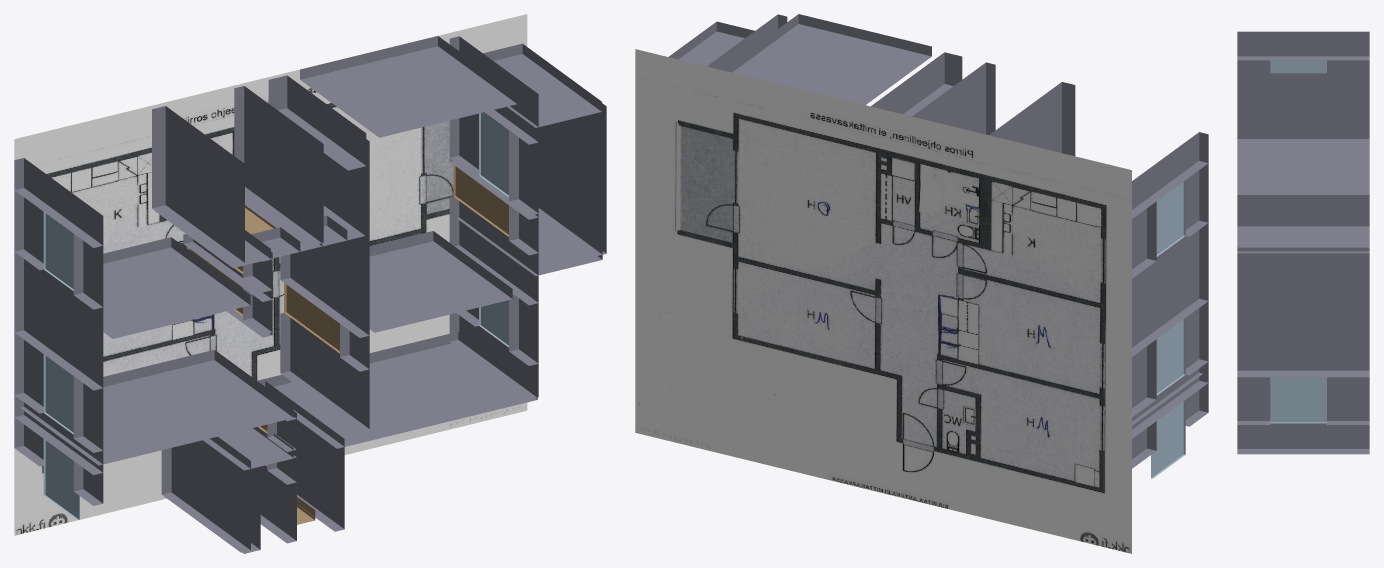
3 renders of one model, left to right at view 1: azimuth 30°, elevation 25°; view 2: azimuth 150°, elevation 25°; view 3: azimuth 270°, elevation 25°, orthographic. The views are drawn at different scales.
Parts seen in each view (by area): view 1: 3, InteriorFloor; view 2: InteriorFloor, 3; view 3: 3.
Boxes of the visible parts, x1=… form: 3: x1=14, y1=36, x2=606, y2=553; InteriorFloor: x1=14, y1=14, x2=527, y2=535; InteriorFloor: x1=635, y1=49, x2=1131, y2=553; 3: x1=669, y1=14, x2=1208, y2=478; 3: x1=1237, y1=31, x2=1369, y2=454.
Size of the model in its own units: 10.47 by 7.73 by 2.8.
Materials: 2 (1 with a texture image).
